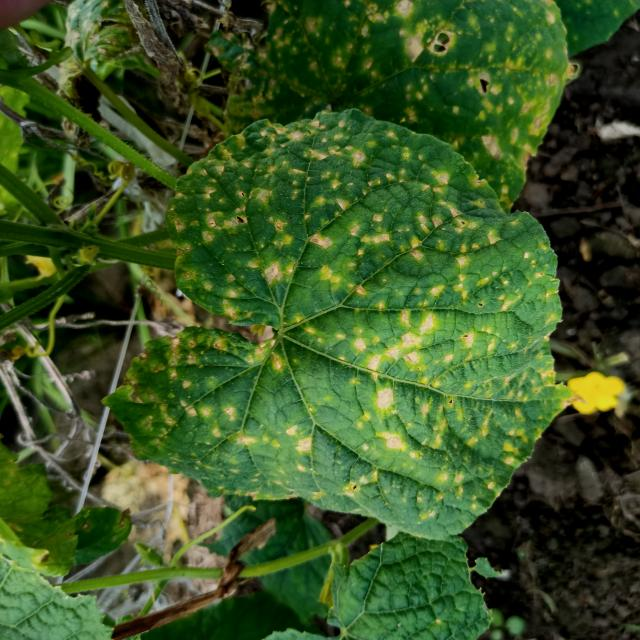disease_cucumber: (129, 104, 556, 536), (234, 0, 563, 180)
